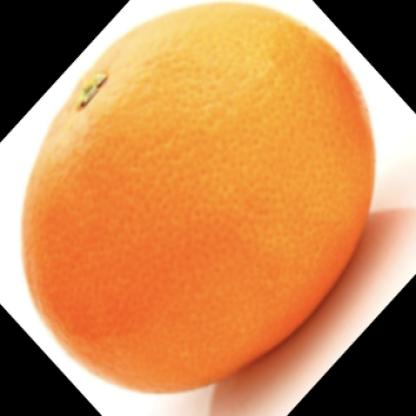fresh: (21, 3, 375, 395)
